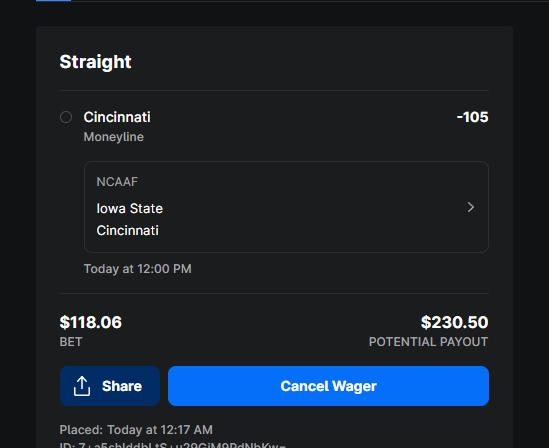game: (95, 199, 167, 242)
odds: (453, 108, 492, 125)
payout: (419, 310, 492, 332)
wager: (57, 312, 125, 333)
